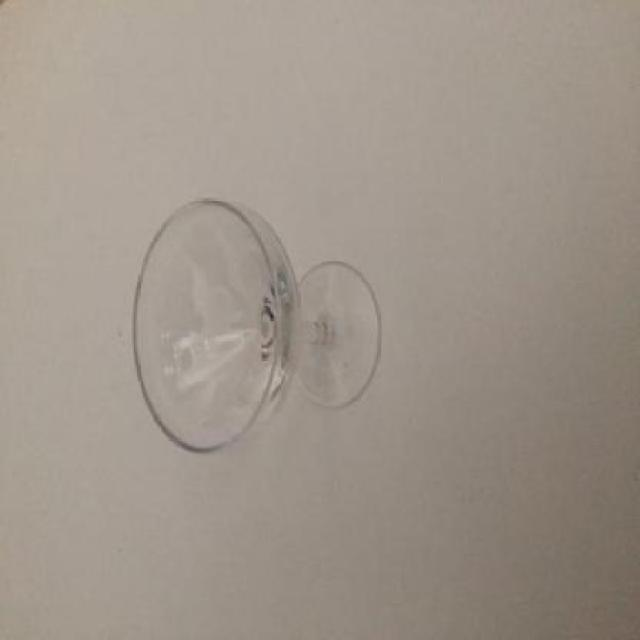kaca: (130, 197, 382, 449)
